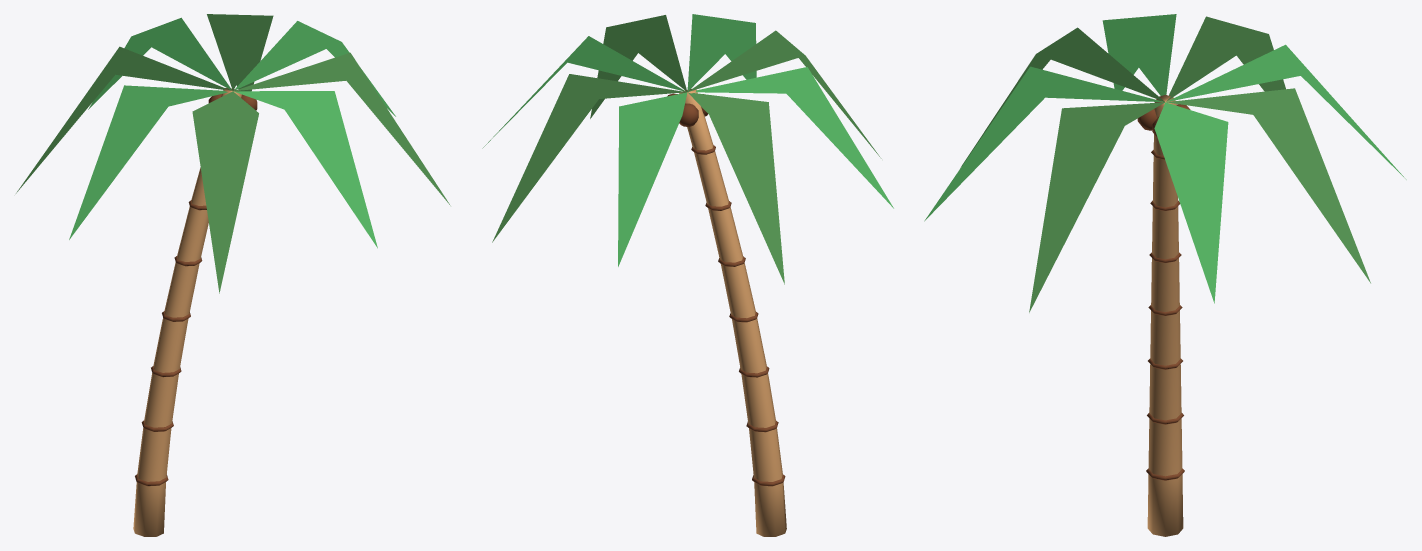
File: cove_palm.glb
3 renders of one model, left to right at view 1: azimuth 30°, elevation 25°; view 2: azimuth 150°, elevation 25°; view 3: azimuth 270°, elevation 25°, orthographic. The views are drawn at different scales.
Parts seen in each view (by area): view 1: Palm; view 2: Palm; view 3: Palm.
Part boxes in pixels (left/top/right/bottom): Palm: left=16, top=14, right=450, bottom=536; Palm: left=482, top=14, right=893, bottom=536; Palm: left=924, top=14, right=1406, bottom=536.
Size of the model in its own units: 7.06 by 8.12 by 7.06.
